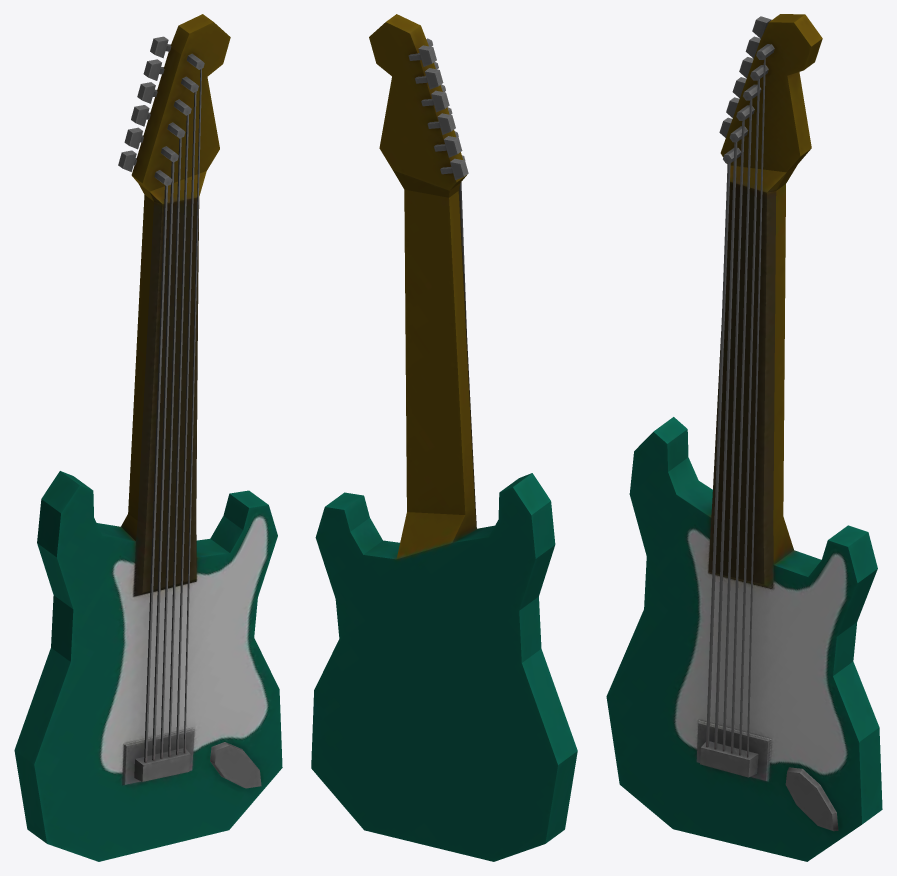
The model's file is guitar.glb.
3 renders of one model, left to right at view 1: azimuth 30°, elevation 25°; view 2: azimuth 150°, elevation 25°; view 3: azimuth 330°, elevation 25°, orthographic. The views are drawn at different scales.
Parts seen in each view (by area): view 1: ElectricGuitar_mesh; view 2: ElectricGuitar_mesh; view 3: ElectricGuitar_mesh.
Boxes of the visible parts, box(x1,y1,x2,y2) form: ElectricGuitar_mesh: box(14, 14, 282, 861); ElectricGuitar_mesh: box(311, 14, 577, 861); ElectricGuitar_mesh: box(606, 14, 882, 861).
Bounding box in the file's own units: 7.24 × 22.6 × 1.44.
1 material, 1 textured.
